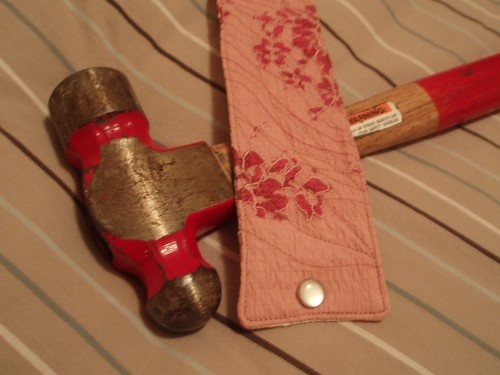hammer: (42, 66, 489, 335)
